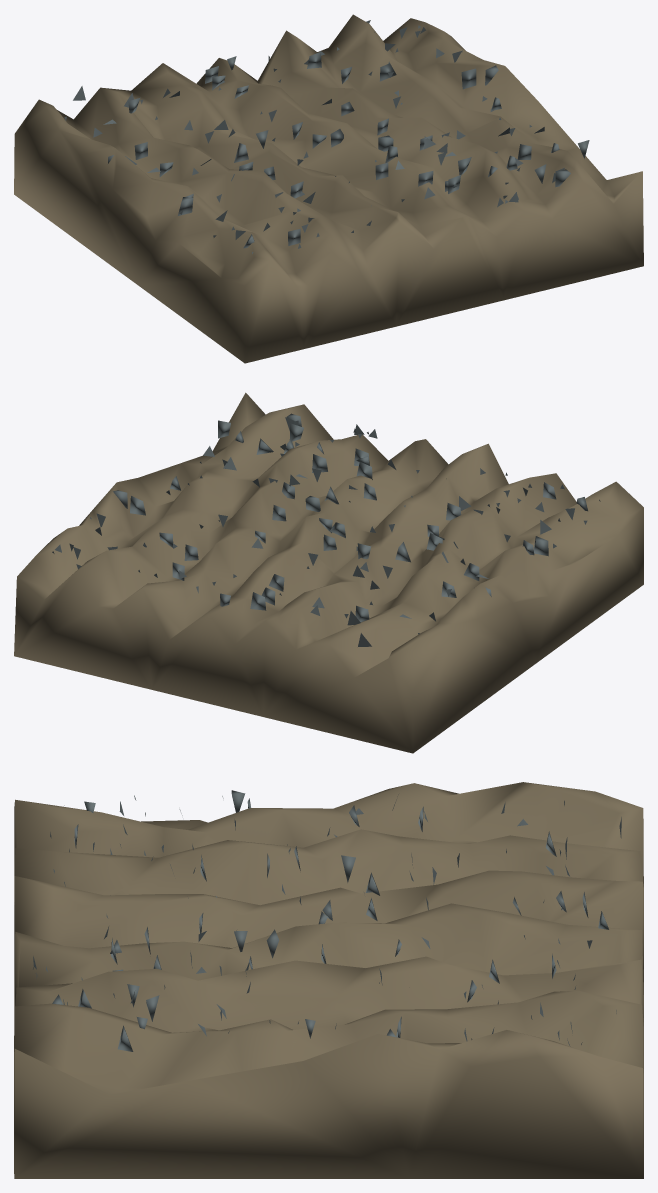
File: devonian-pebbles.glb
3 renders of one model, top to bottom at view 1: azimuth 30°, elevation 25°; view 2: azimuth 150°, elevation 25°; view 3: azimuth 270°, elevation 25°, orthographic. The views are drawn at different scales.
Parts seen in each view (by area): view 1: devonian-pebbles; view 2: devonian-pebbles; view 3: devonian-pebbles.
Boxes of the visible parts, x1,y1,x2,y2 form: devonian-pebbles: [14, 14, 643, 363]; devonian-pebbles: [14, 392, 643, 753]; devonian-pebbles: [14, 782, 643, 1178].
Bounding box in the file's own units: 0.6 × 0.15 × 0.6.
